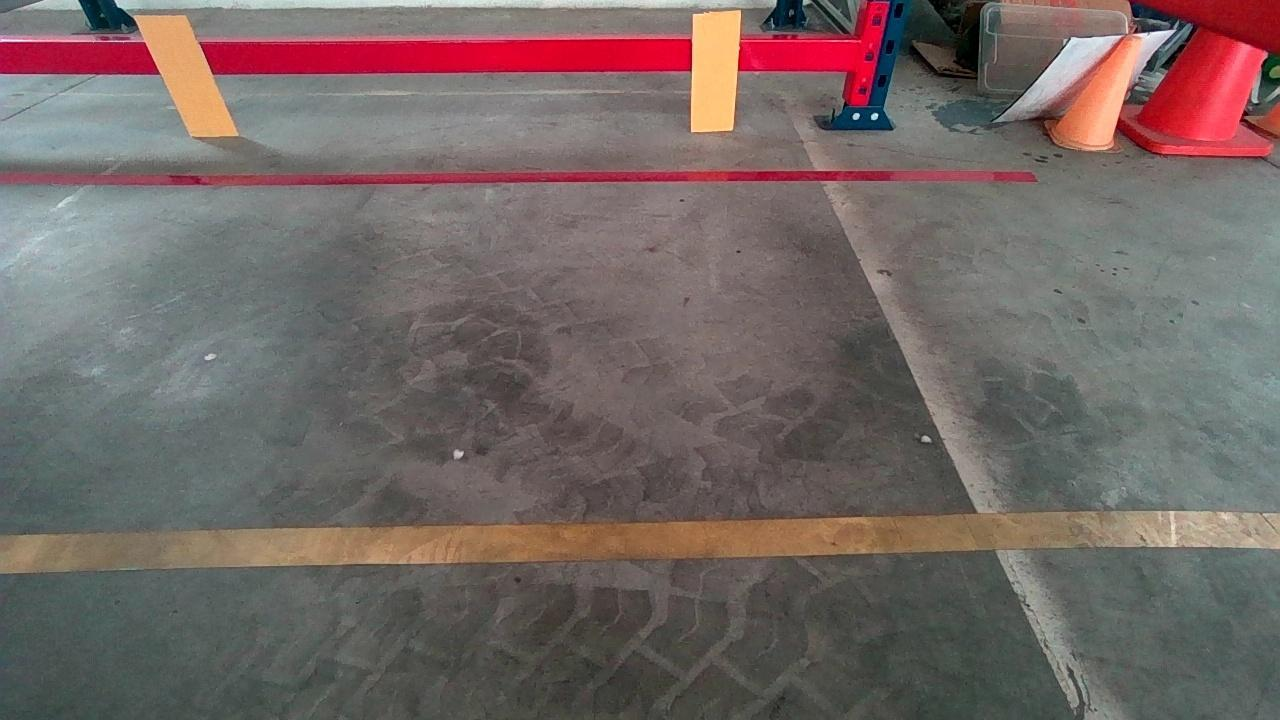h_rack: (12, 38, 867, 80)
orange_strip: (134, 15, 237, 134), (691, 11, 740, 131)
red_line: (0, 167, 1039, 192)
